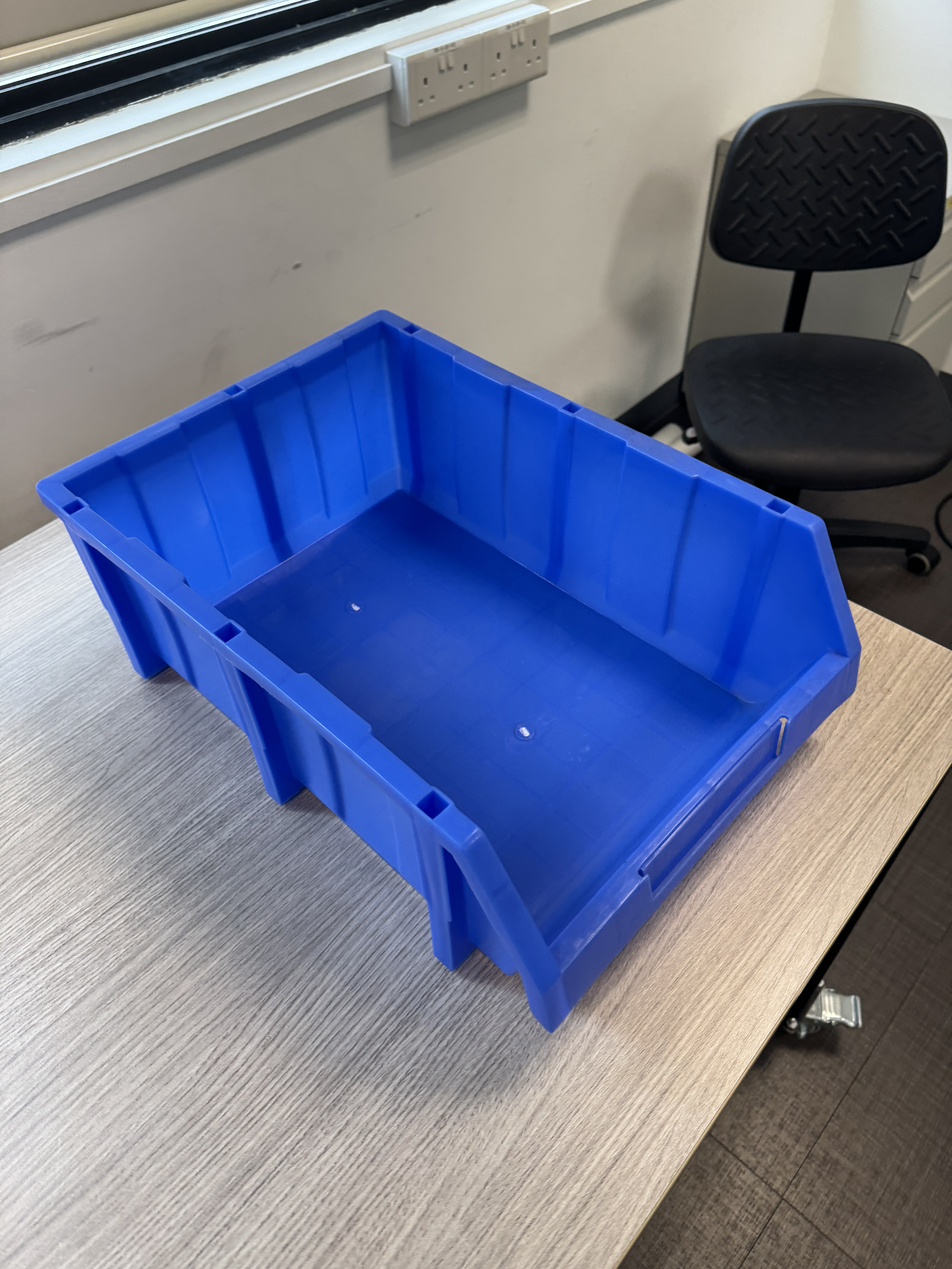Bin Boundary: (64, 133, 893, 957)
